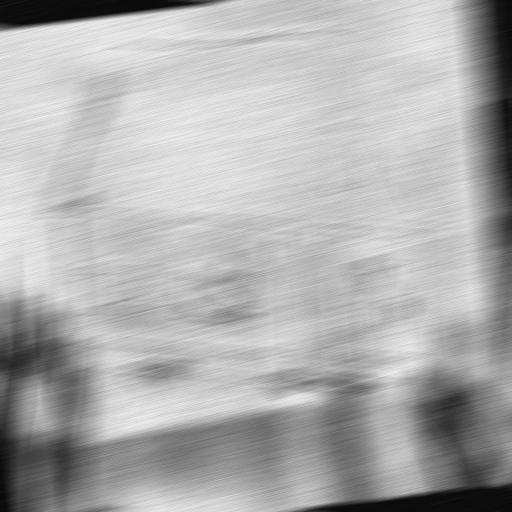house: (16, 0, 465, 445)
